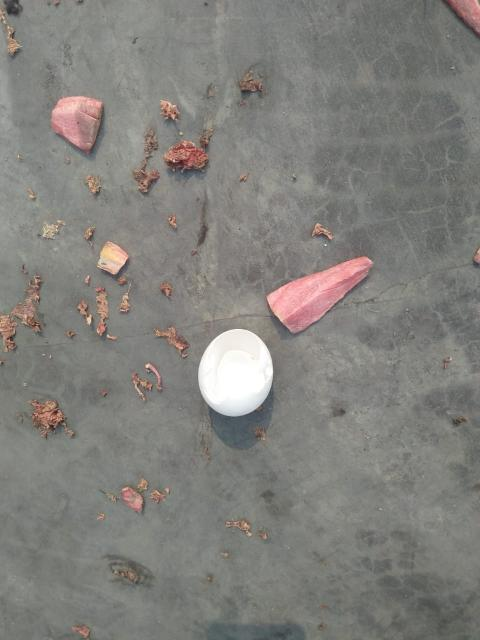Roto: (199, 328, 272, 417)
